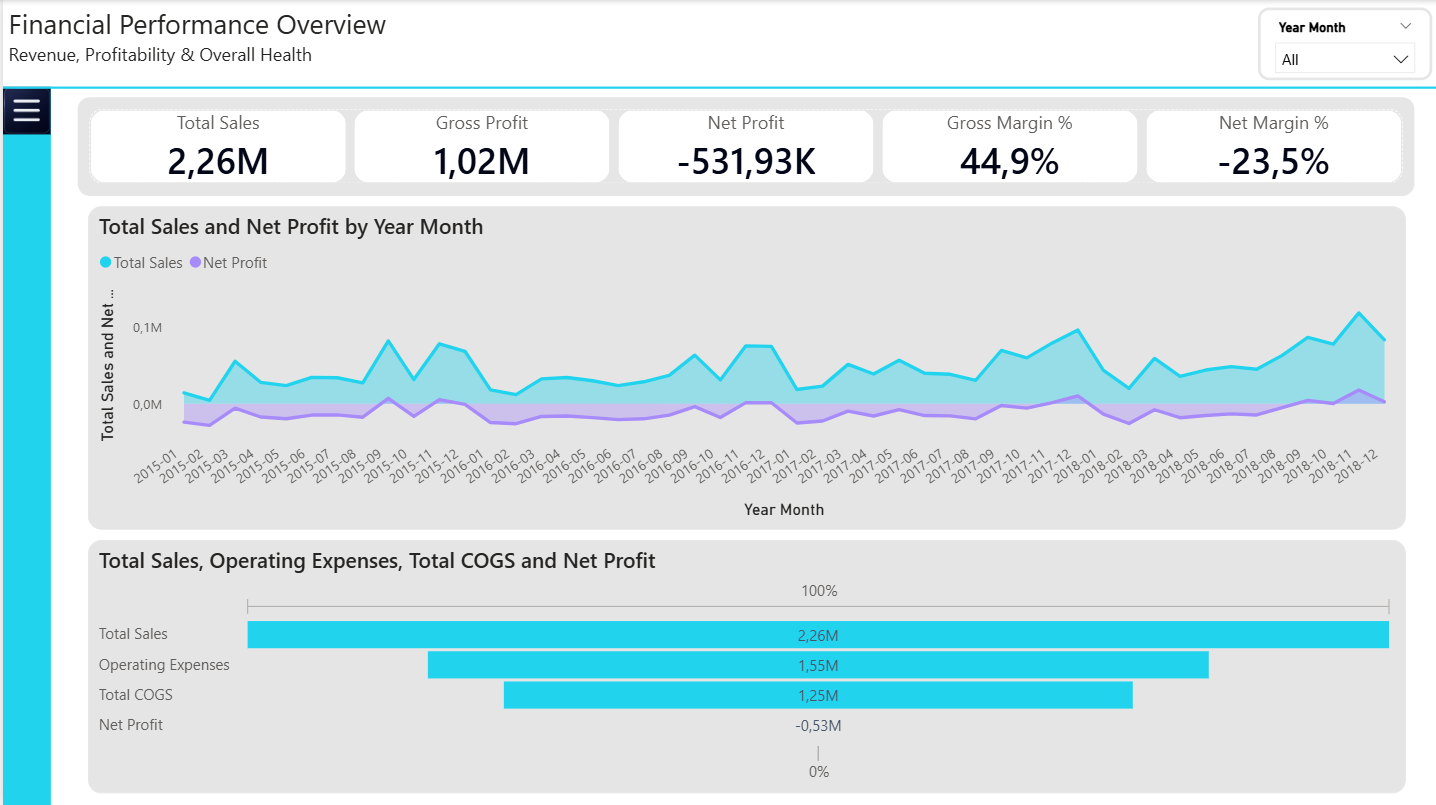

Layout of this report page (visuals, bound fields, positions):
{"tool":"powerbi","page":{"name":"Performance Overview","canvas":[1280,720],"ordinal":0},"visuals":[{"type":"shape","title":"Small Navigator bar","box":[0,78.4,42.2,641.8],"z":0,"group":"g1"},{"type":"cardVisual","fields":{"Data":["MeasuresTables.Total Sales","MeasuresTables.Gross Profit","MeasuresTables.Net Profit","MeasuresTables.Gross Margin %","MeasuresTables.Net Margin %"]},"box":[60,79.8,1204.1,100.2],"z":0},{"type":"image","title":"Nav Menu","box":[0,76,42.2,45.8],"z":1000,"group":"g1"},{"type":"areaChart","fields":{"Category":["DimDate.Year Month"],"Y":["MeasuresTables.Total Sales","MeasuresTables.Net Profit"]},"box":[75.4,183.5,1174,288.2],"z":1000},{"type":"funnel","fields":{"Y":["MeasuresTables.Total Sales","MeasuresTables.Operating Expenses","MeasuresTables.Total COGS","MeasuresTables.Net Profit"]},"box":[75.4,480.6,1174,225.2],"z":2000},{"type":"textbox","box":[0,0,1380,69.7],"z":3000},{"type":"slicer","fields":{"Values":["DimDate.Year Month"]},"box":[1118.1,6.2,155.2,64.7],"z":4000},{"type":"group","id":"g1","title":"Closed Menu","box":[0,76,42.2,644.2],"z":6000},{"type":"shape","box":[0,71,1380,13.6],"z":7000}]}

Visuals, with their boxes in screenshot pixels (x1, y1, x2, y2), scaled from the page's 1280x720 canvas onto the 1436x805 screenshot:
"Small Navigator bar" shape: crop(0, 88, 47, 804)
cardVisual - MeasuresTables.Total Sales x MeasuresTables.Gross Profit: crop(67, 89, 1418, 201)
"Nav Menu" image: crop(0, 85, 47, 136)
areaChart - DimDate.Year Month x MeasuresTables.Total Sales: crop(85, 205, 1402, 527)
funnel - MeasuresTables.Total Sales x MeasuresTables.Operating Expenses: crop(85, 537, 1402, 789)
textbox: crop(0, 0, 1435, 78)
slicer - DimDate.Year Month: crop(1254, 7, 1428, 79)
"Closed Menu" group: crop(0, 85, 47, 804)
shape: crop(0, 79, 1435, 95)
